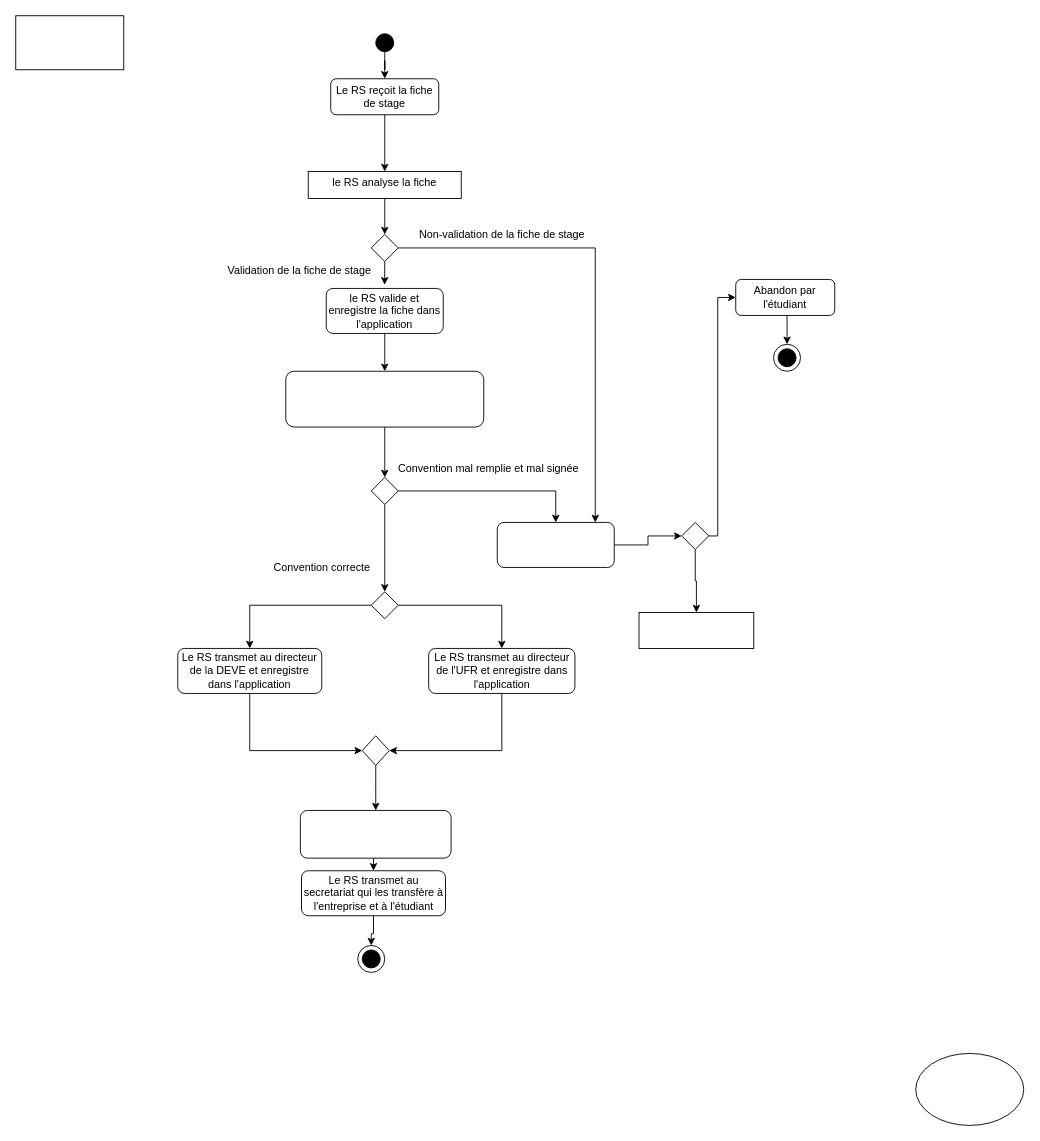
The diagram is 1040 pixels wide and 1141 high, and some of its shapes have lost their labels. Here are the shapes that lost their labels. From the top down, the centre of each, then its label:
At (384,398): "le RS reçoit la convention de stage signé par l'étudiant et l'entreprise".
At (555,544): "Le RS transmet à l'étudiant".
At (696,630): "L'étudiant recommence".
At (375,834): "Retour au directeur de stage (garde un exemplaire dans l'application)".
